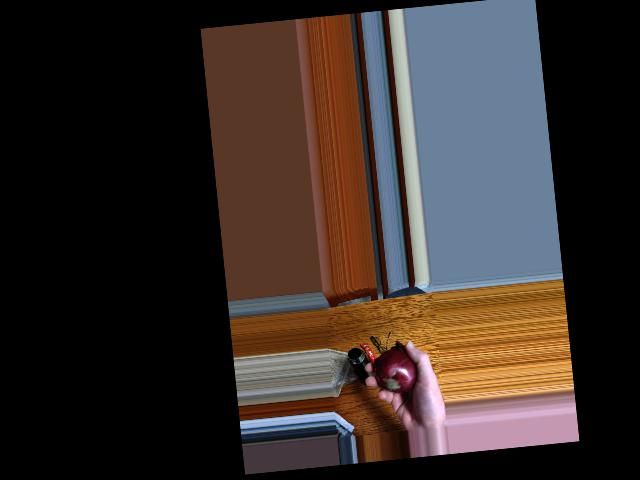onion: (374, 348, 418, 393)
